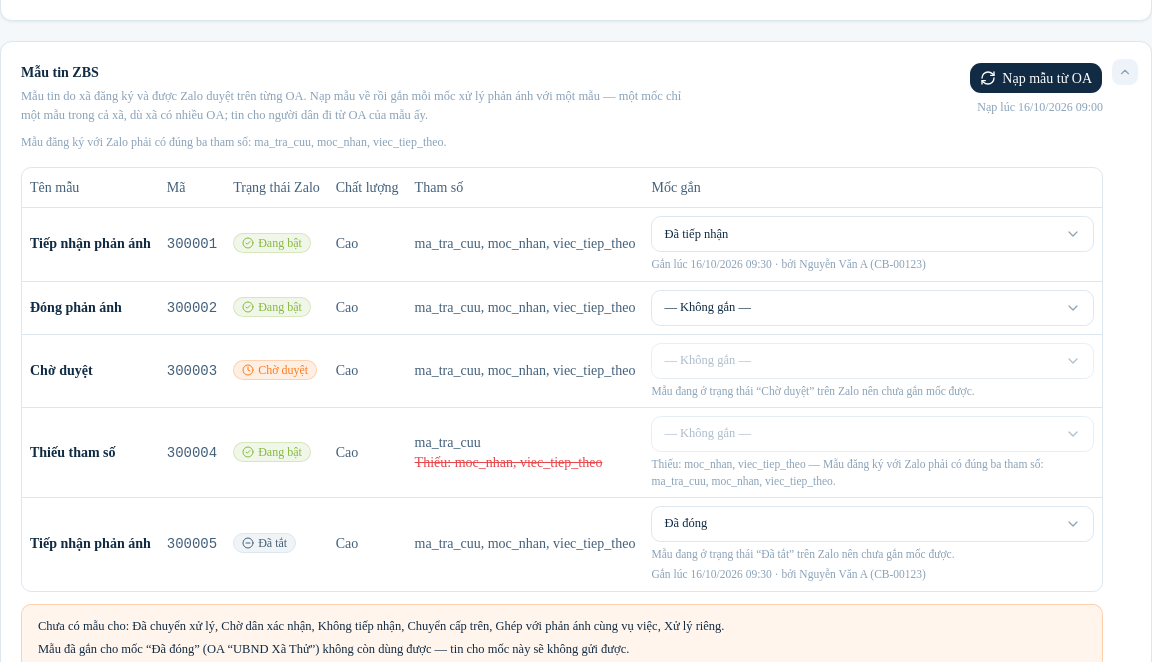
Test: Mẫu tin ZBS — one OA › changing a select PATCHes zalo-oa-templates/{id} at once; the reply replaces the row; 'Đã lưu.'; the OA counts re-read
(page scrolled)
Select "Đã chuyển xử lý" in the dropdown in the row of "Đóng phản ánh" at (873, 308), box [651,290,1094,326]
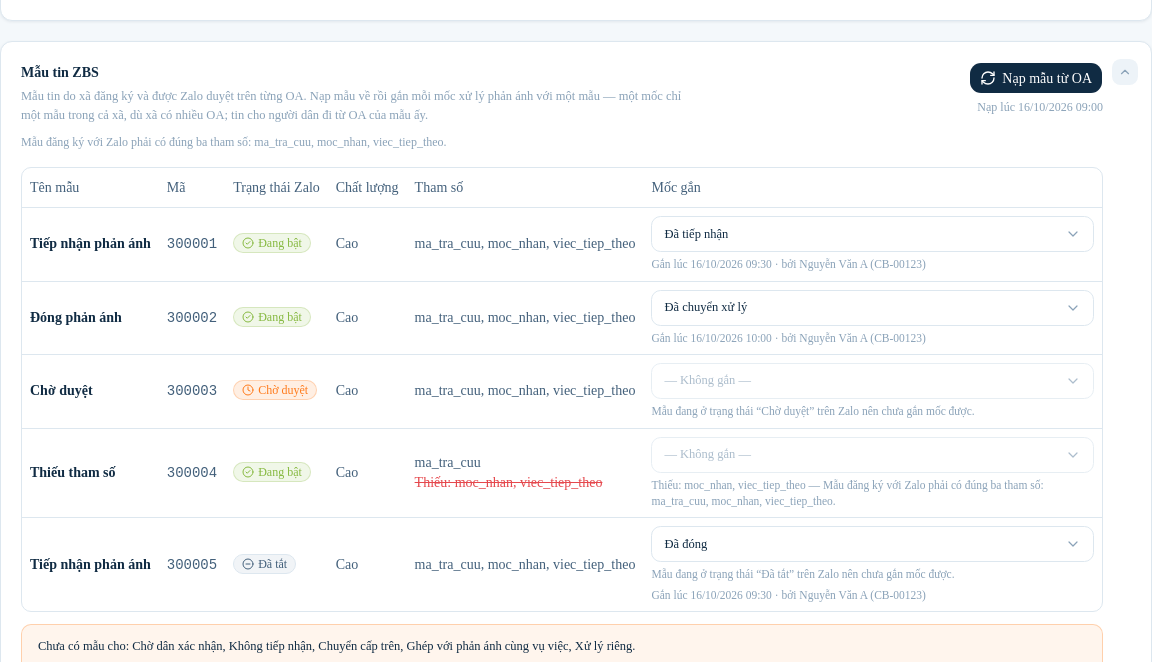
Expected: the text "Gắn lúc 16/10/2026 10:00 · bởi Nguyễn Văn A (CB-00123)" is shown, [651,332,926,344]
